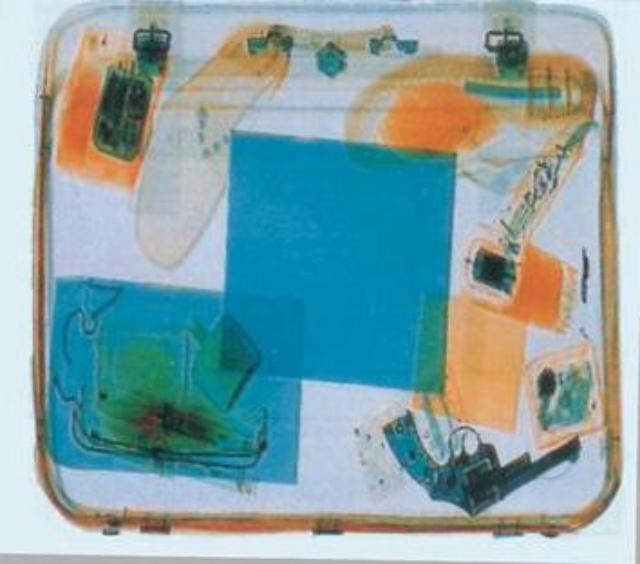Gun: (378, 405, 582, 516)
